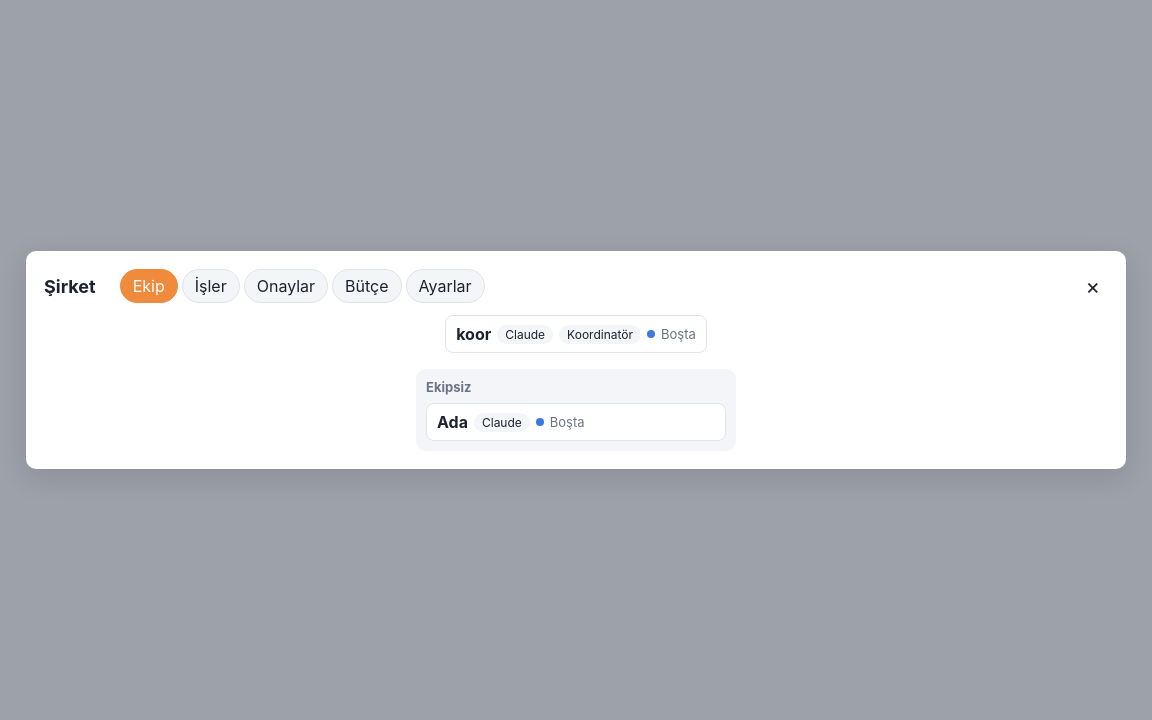
Test: CompanyView › lists what waits for the owner first in the Öneriler tab
Click the tab "Onaylar" at (286, 286), box [244,269,328,303]
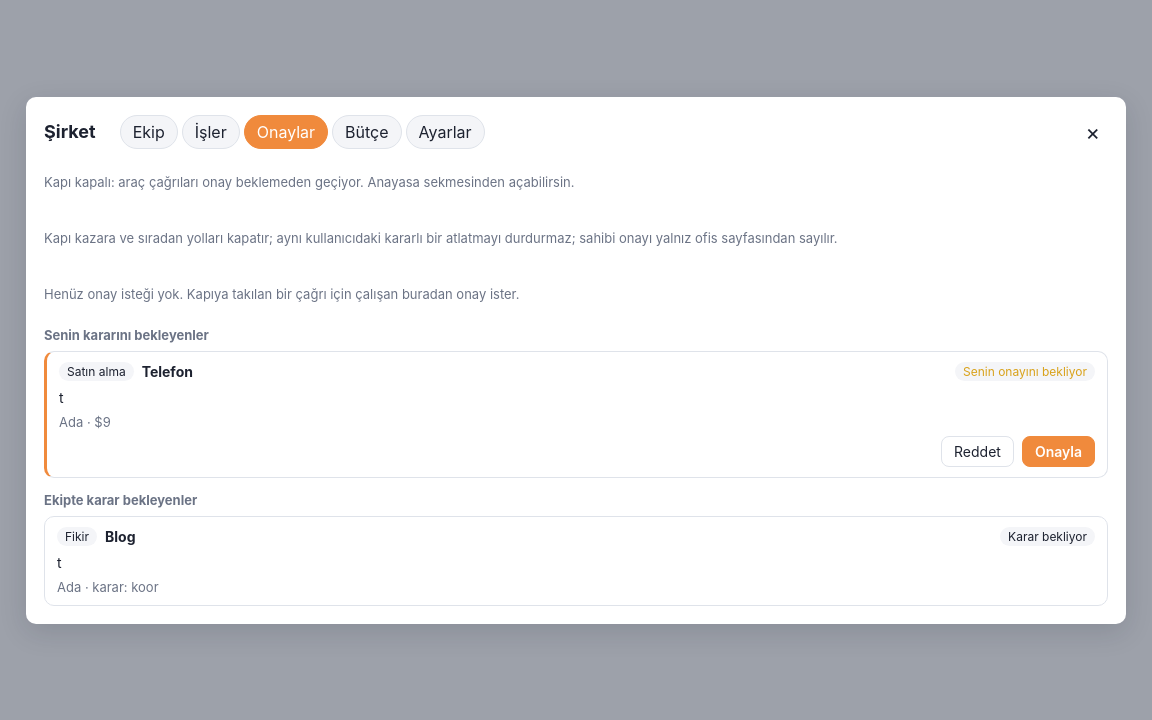
expect the text "Telefon" is shown: met, box [142,362,193,380]
expect the text "Blog" is shown: met, box [105,528,136,544]
